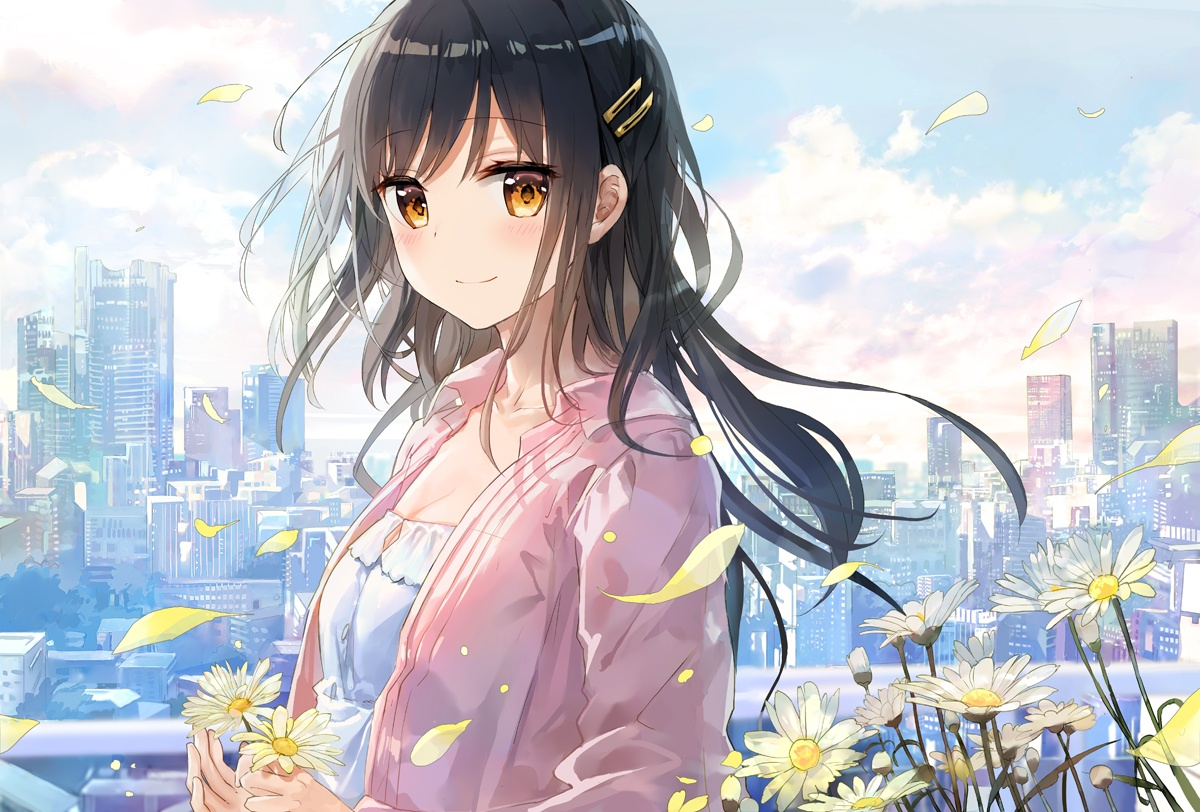纸片人正脸: (297, 0, 712, 335)
